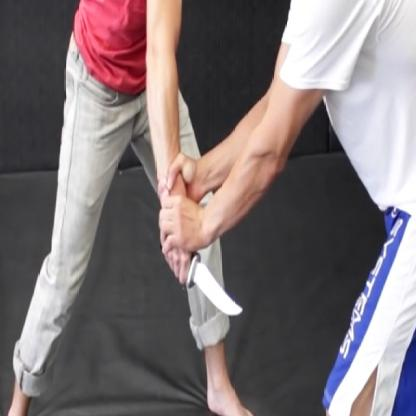knife: (160, 247, 247, 325)
